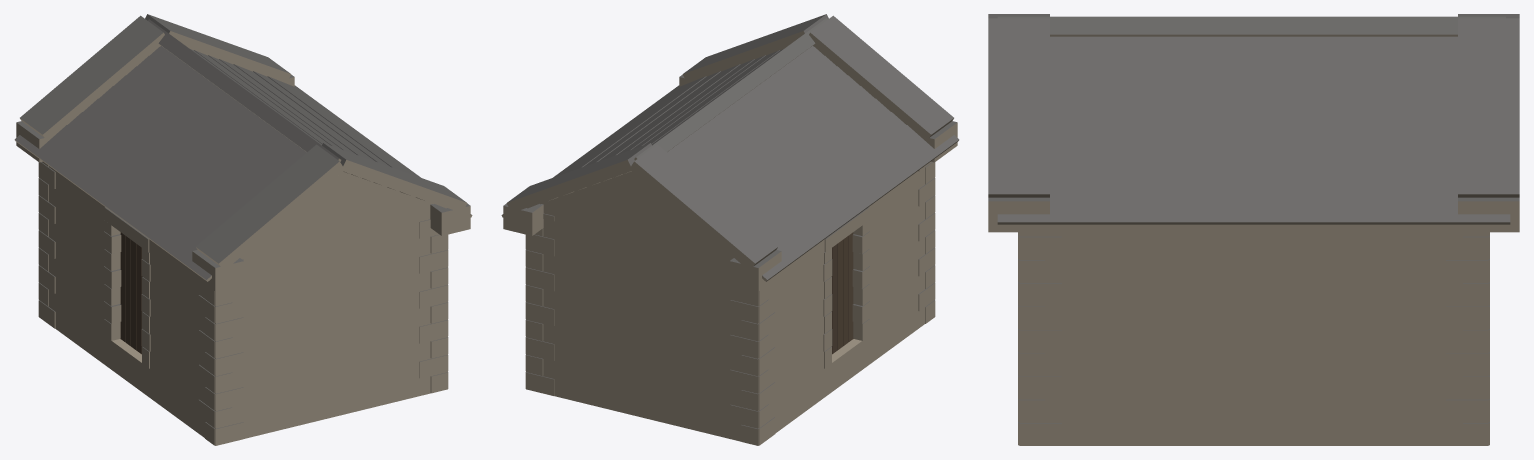
Rendered from context.dales.barn_02.glb.
The picture shows the model from 3 angles, left to right: view 1: azimuth 30°, elevation 25°; view 2: azimuth 150°, elevation 25°; view 3: azimuth 270°, elevation 25°; orthographic projection. The views are drawn at different scales.
Visible parts, largest first — view 1: main__stone_a98, main__slate_666, main__paint_543, main__paint_544; view 2: main__stone_a98, main__slate_666, main__paint_544, main__paint_543, main__paint_554; view 3: main__stone_a98, main__slate_666.
Part boxes in pixels (x1,y1,x2,y2): main__stone_a98: [15, 31, 472, 445]; main__slate_666: [14, 14, 471, 428]; main__paint_543: [120, 232, 136, 349]; main__paint_544: [136, 244, 142, 354]; main__stone_a98: [501, 31, 958, 445]; main__slate_666: [502, 14, 959, 428]; main__paint_544: [837, 236, 848, 349]; main__paint_543: [831, 244, 837, 354]; main__paint_554: [848, 232, 853, 342]; main__stone_a98: [988, 34, 1519, 445]; main__slate_666: [988, 14, 1519, 423].
Size of the model in its own units: 4.78 by 4.56 by 6.2.
